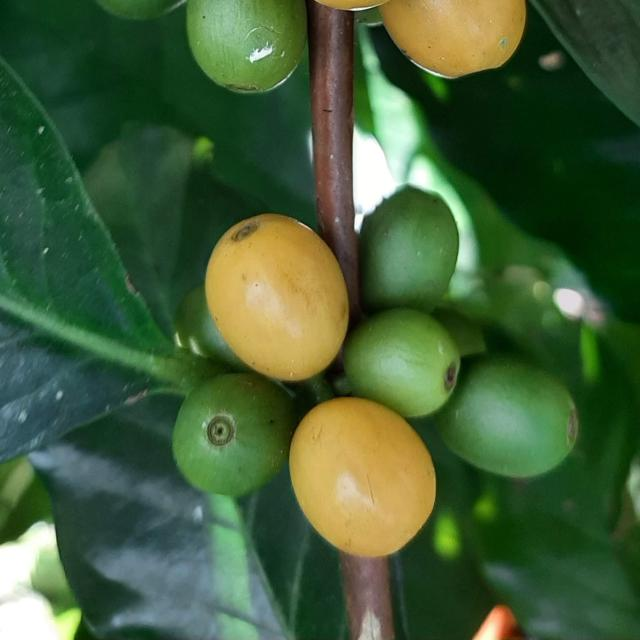green: (437, 357, 579, 478), (172, 374, 298, 497), (344, 308, 461, 418), (360, 184, 459, 312), (186, 0, 307, 92), (175, 285, 250, 371), (96, 0, 185, 19)
red: (205, 213, 349, 382), (289, 398, 437, 558), (380, 0, 527, 77)
